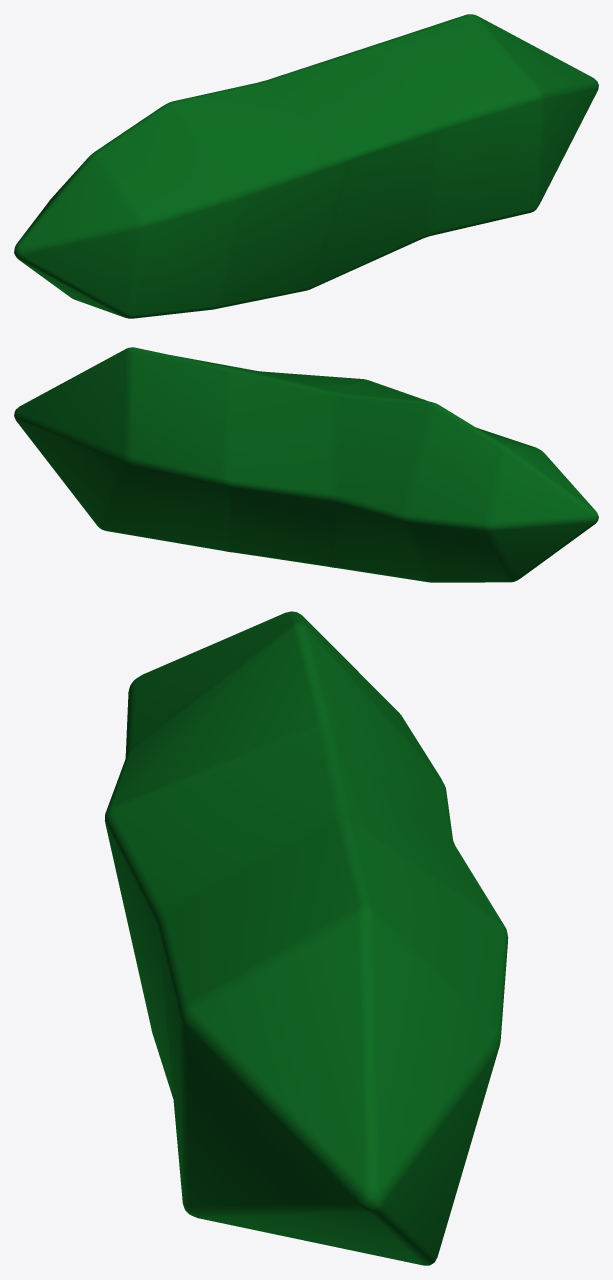
The model's file is PortableCrystal_animated.FBX.
The picture shows the model from 3 angles, top to bottom: view 1: azimuth 30°, elevation 25°; view 2: azimuth 150°, elevation 25°; view 3: azimuth 270°, elevation 25°; orthographic projection. The views are drawn at different scales.
Visible parts, largest first — view 1: Cylinder; view 2: Cylinder; view 3: Cylinder.
Boxes of the visible parts, x1,y1,x2,y2 form: Cylinder: (14,14,598,318); Cylinder: (14,347,598,582); Cylinder: (104,611,508,1265).
Size of the model in its own units: 101 by 30.65 by 31.86.
